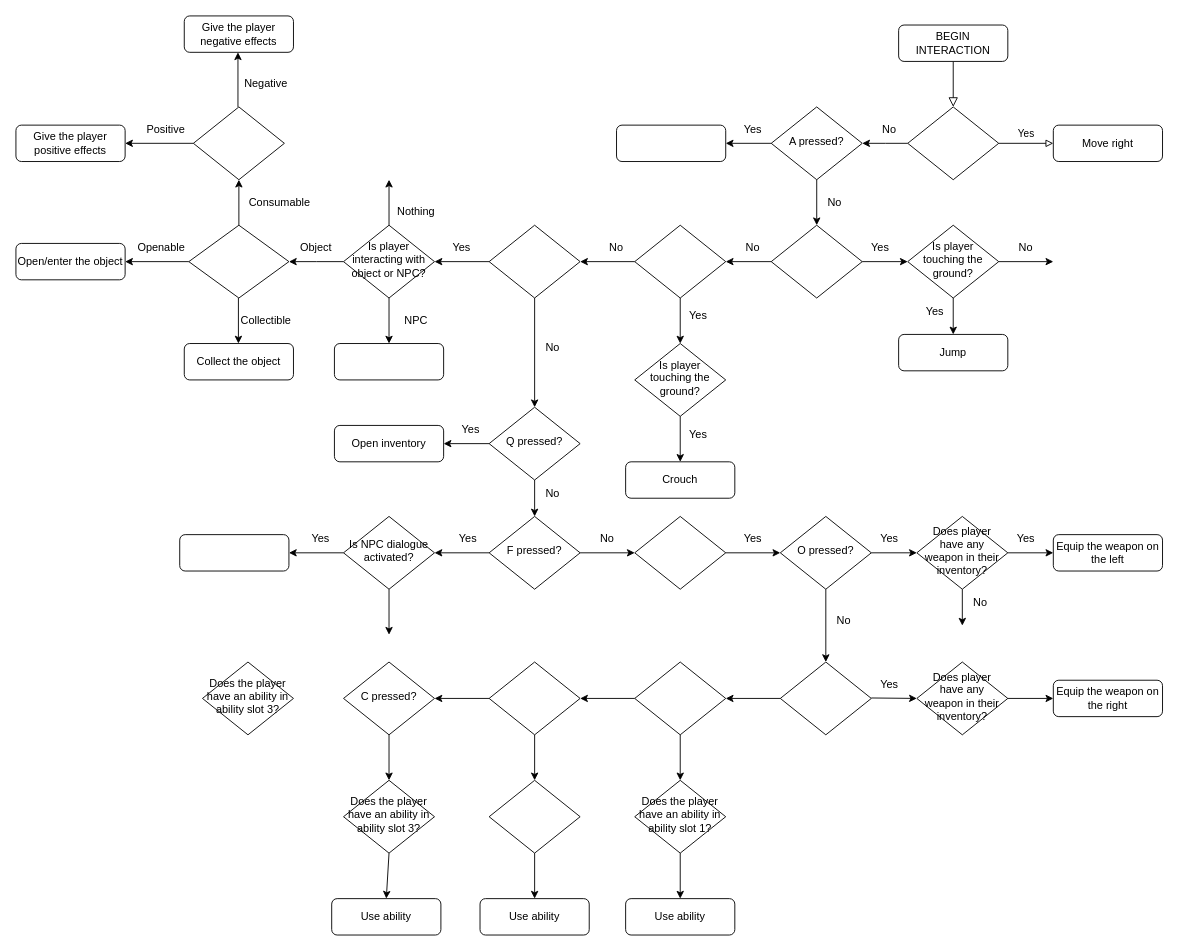
This 1178x951 diagram has some shape labels left out. Each missing label, with the centre of its shape:
"Activate NPC dialogue" goes at pixel 389 361.
"Continue dialogue" goes at pixel 234 552.
"D pressed?" goes at pixel 953 143.
"Does the player have an ability in ability slot 2?" goes at pixel 534 816.
"E pressed?" goes at pixel 534 261.
"Is player in a battle?" goes at pixel 680 552.
"Is the consumable beneficial or harmful for the player?" goes at pixel 238 143.
"Move left" goes at pixel 671 143.
"P pressed?" goes at pixel 825 698.
"S/down arrow pressed?" goes at pixel 680 261.
"W/up arrow/spacebar pressed?" goes at pixel 816 261.
"What type of object is the player interacting with?" goes at pixel 238 261.
"X pressed?" goes at pixel 534 698.
"Z pressed?" goes at pixel 680 698.
